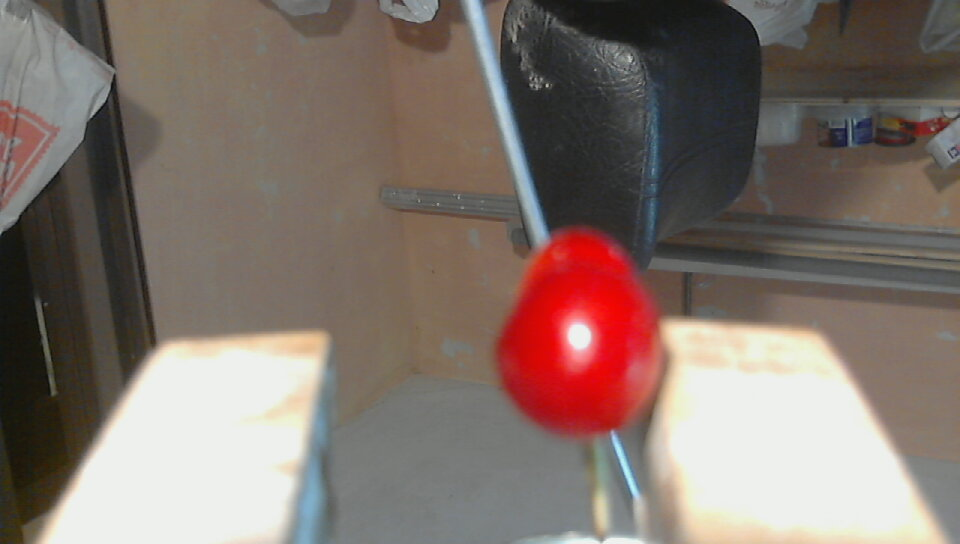Cherry: (462, 202, 714, 476)
